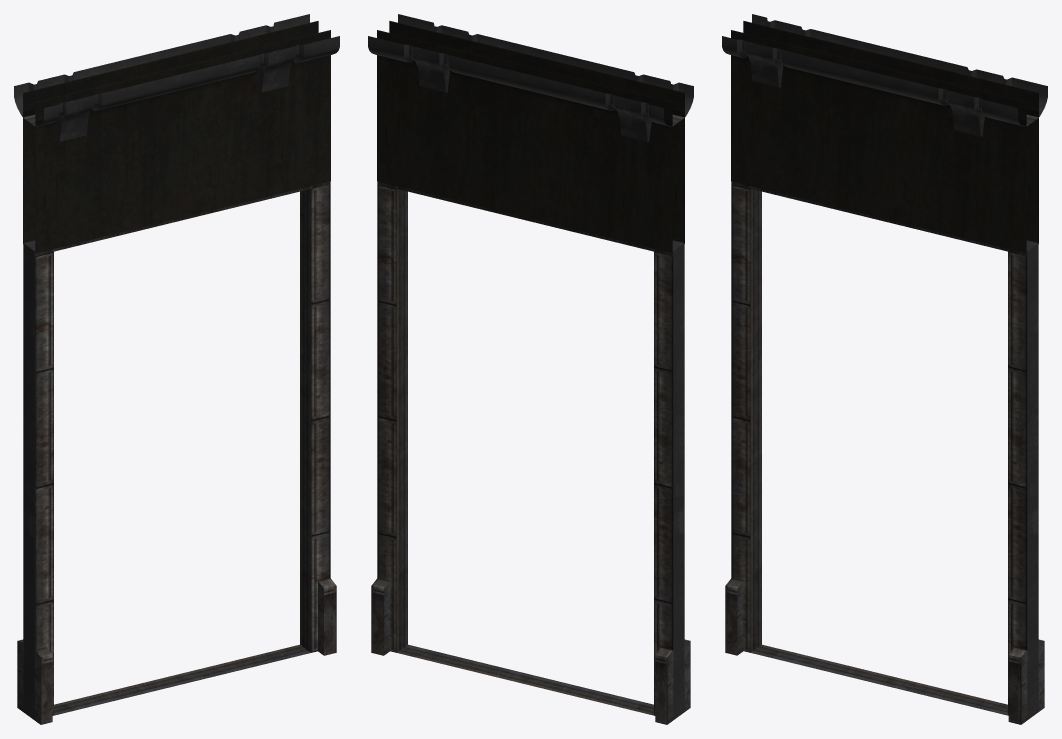
The model's file is lab_flat_glass_doorway.dae.
3 views of the same model, side by side, from view 1: azimuth 30°, elevation 25°; view 2: azimuth 150°, elevation 25°; view 3: azimuth 330°, elevation 25° (orthographic).
Visible parts, largest first — view 1: glass__3_, lab_glass_doorway; view 2: glass__3_, lab_glass_doorway; view 3: glass__3_, lab_glass_doorway.
Boxes of the visible parts, left/top/right/bottom form: glass__3_: left=23, top=21, right=330, bottom=253; lab_glass_doorway: left=14, top=14, right=339, bottom=724; glass__3_: left=377, top=21, right=684, bottom=253; lab_glass_doorway: left=368, top=14, right=693, bottom=724; glass__3_: left=731, top=21, right=1038, bottom=253; lab_glass_doorway: left=722, top=14, right=1047, bottom=724.
Bounding box in the file's own units: 2 × 4 × 0.3514.
